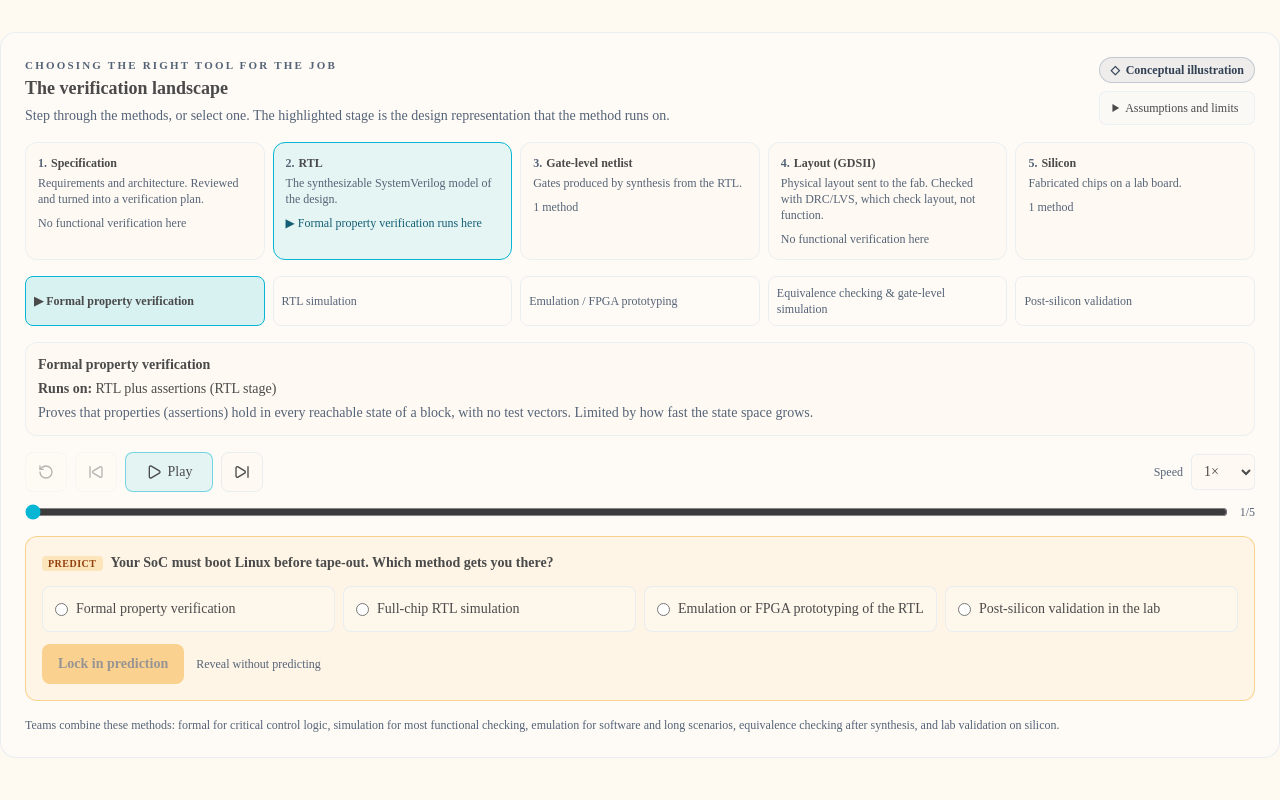
Scenario: VerificationMethodologiesDiagram › places emulation at the RTL stage (it runs synthesized RTL), not at the netlist
The width and height of the screenshot is (1280, 800).
Click the button "Emulation / FPGA prototyping". click: (640, 300)
box: [520, 276, 760, 326]
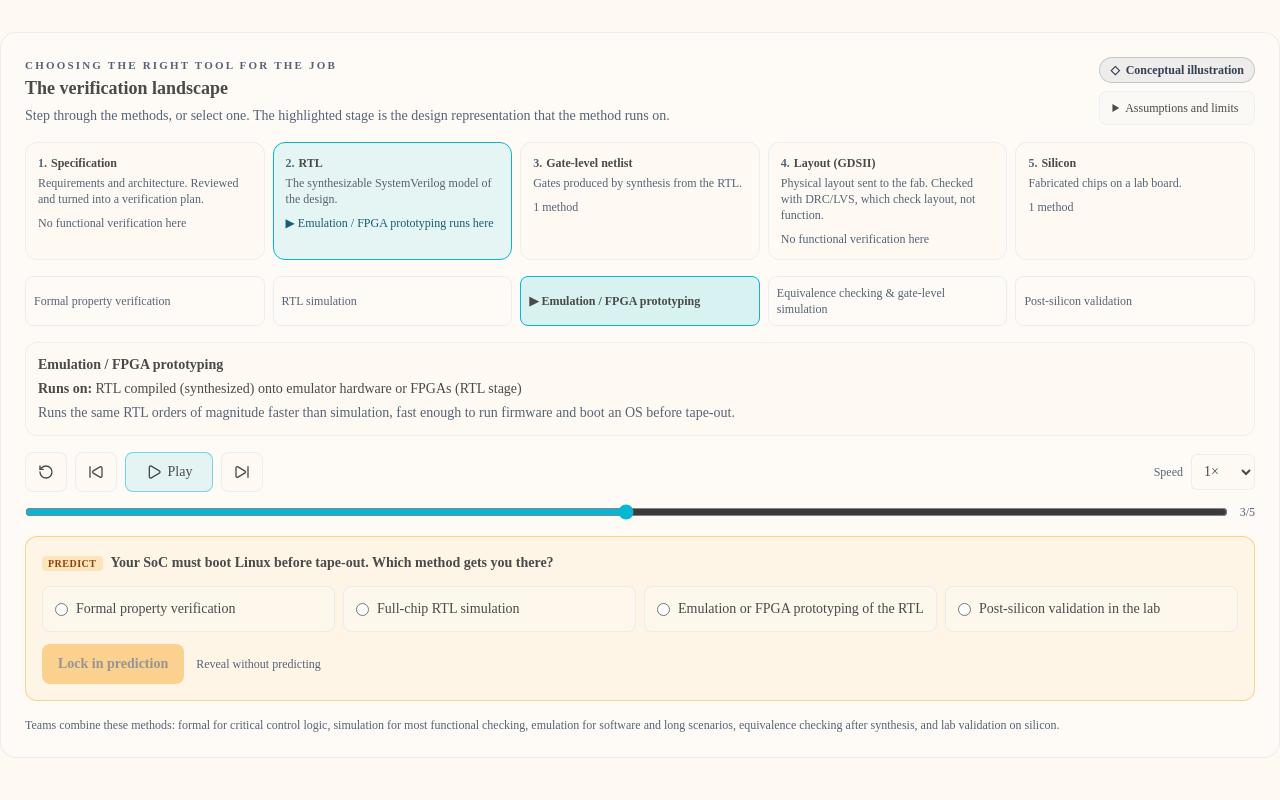
Check: the list item that starts with "RTL" shows "Emulation / FPGA prototyping runs here", box [273, 142, 512, 260]
